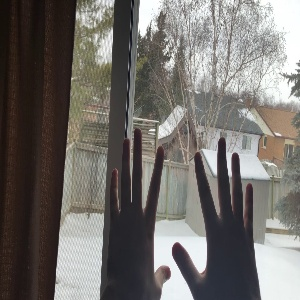hand: (175, 138, 261, 300), (108, 129, 172, 300)
